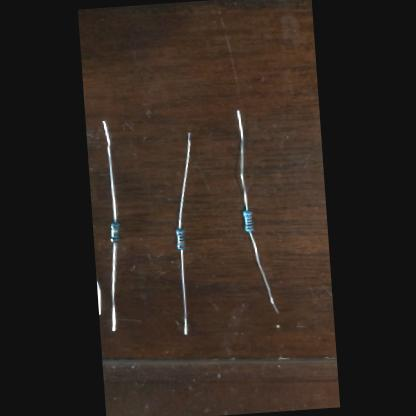resistor: (109, 220, 120, 242), (242, 209, 252, 232), (175, 227, 185, 249)
wire: (170, 132, 196, 228), (248, 230, 278, 313), (106, 243, 123, 330), (102, 119, 116, 220), (235, 109, 248, 210), (178, 248, 188, 334), (96, 280, 100, 314)
